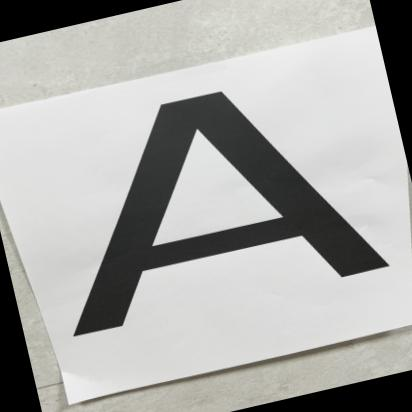seat: (15, 36, 412, 349)
